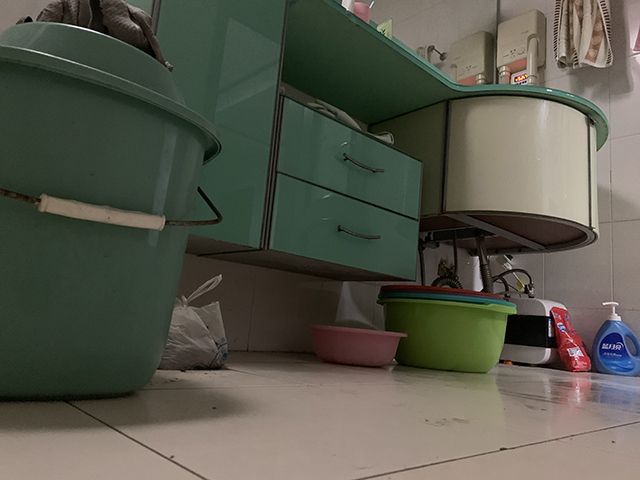trashcan: (1, 20, 225, 404)
